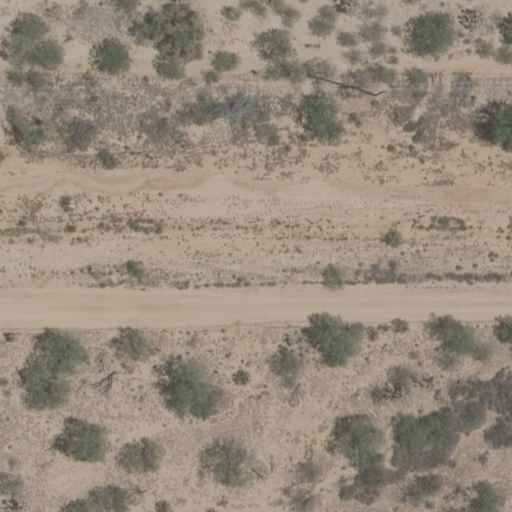DT: (372, 83, 397, 98)
